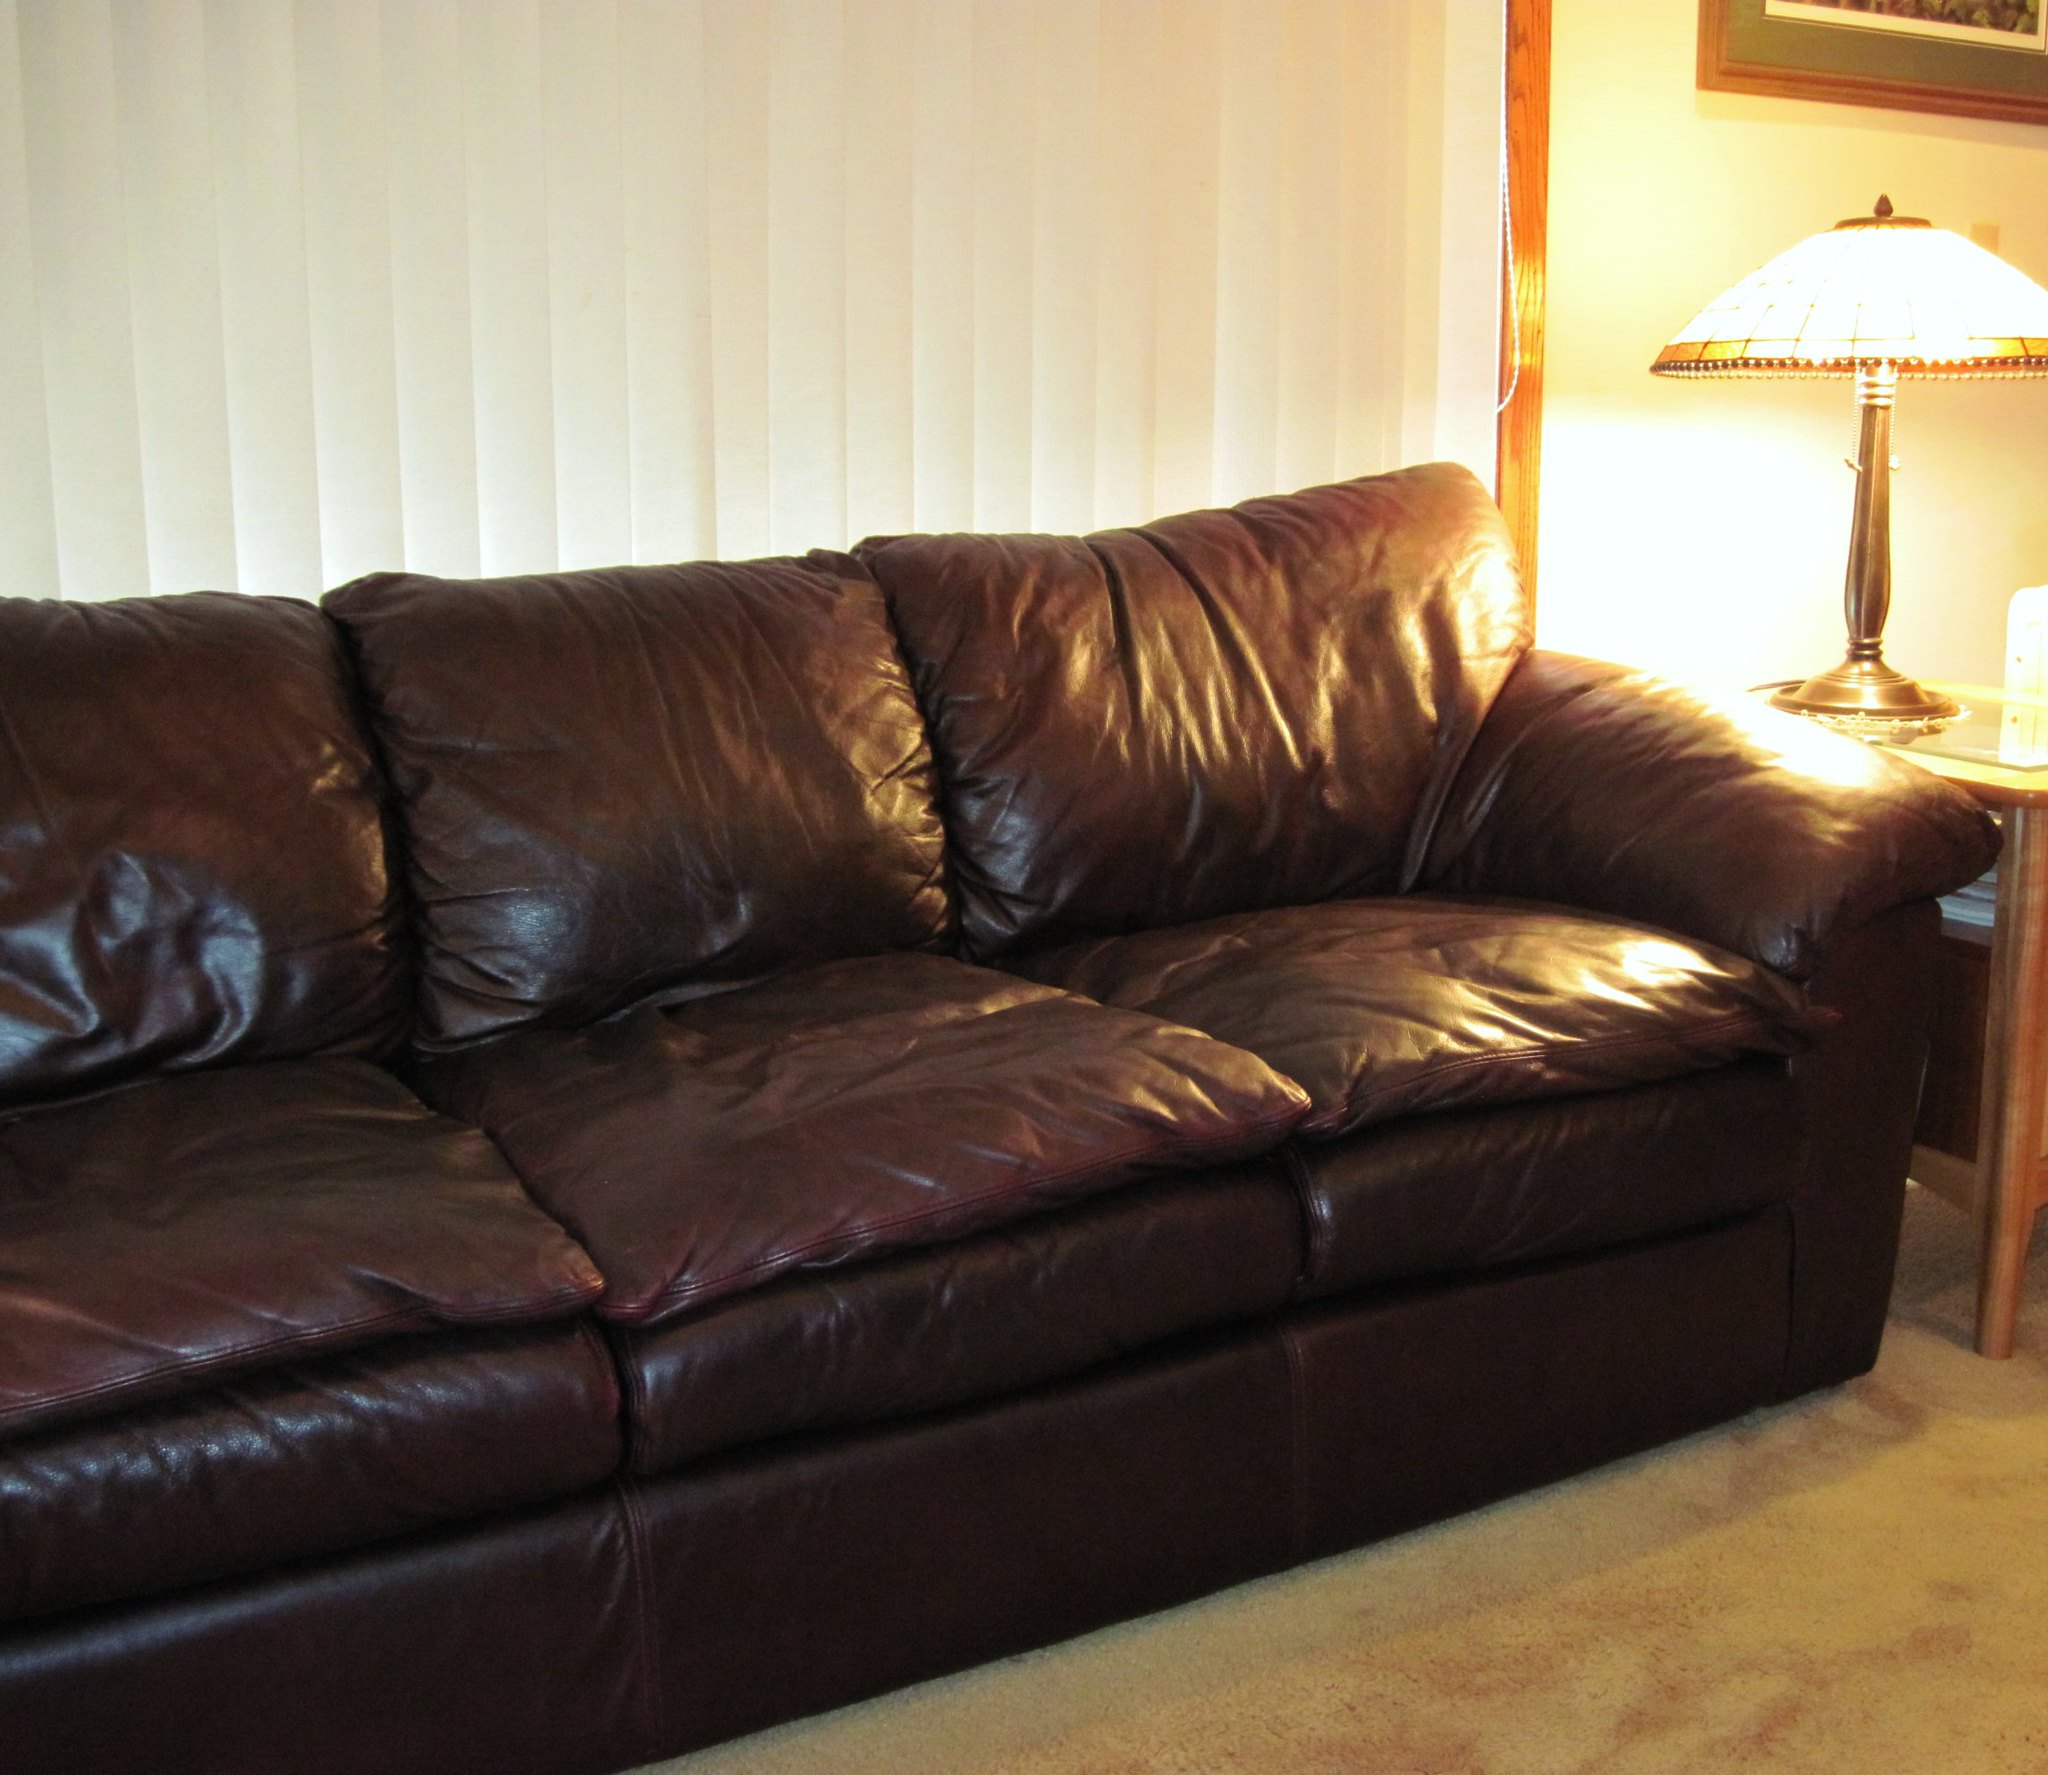sofa: (2, 432, 1775, 1773)
